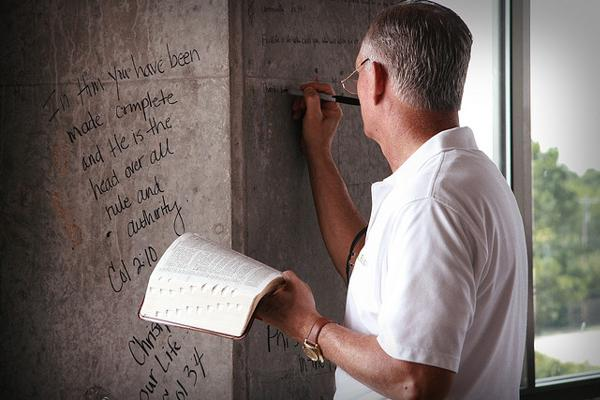person: (257, 4, 526, 400)
